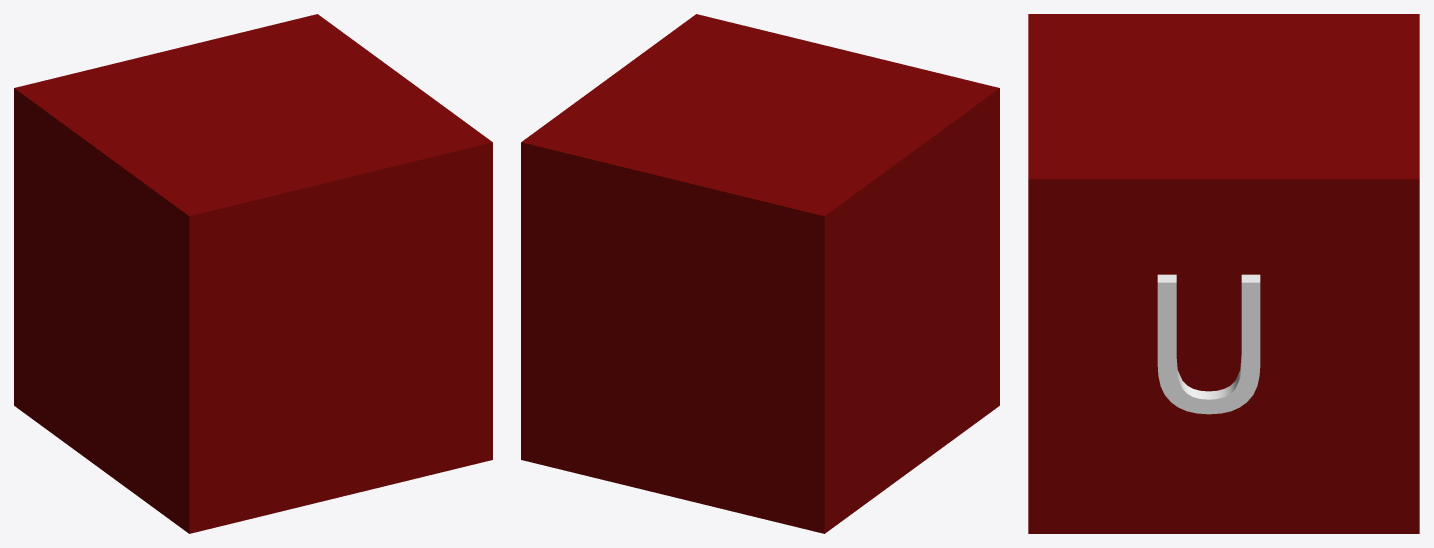
3 renders of one model, left to right at view 1: azimuth 30°, elevation 25°; view 2: azimuth 150°, elevation 25°; view 3: azimuth 270°, elevation 25°, orthographic. The views are drawn at different scales.
Parts seen in each view (by area): view 1: SketchUp; view 2: SketchUp; view 3: SketchUp, U.
Part boxes in pixels (box(x1,y1,x2,y2)): SketchUp: box(14, 14, 492, 533); SketchUp: box(521, 14, 999, 533); SketchUp: box(1028, 14, 1419, 533); U: box(1157, 274, 1260, 414).
Bounding box in the file's own units: 21 × 20 × 20.
